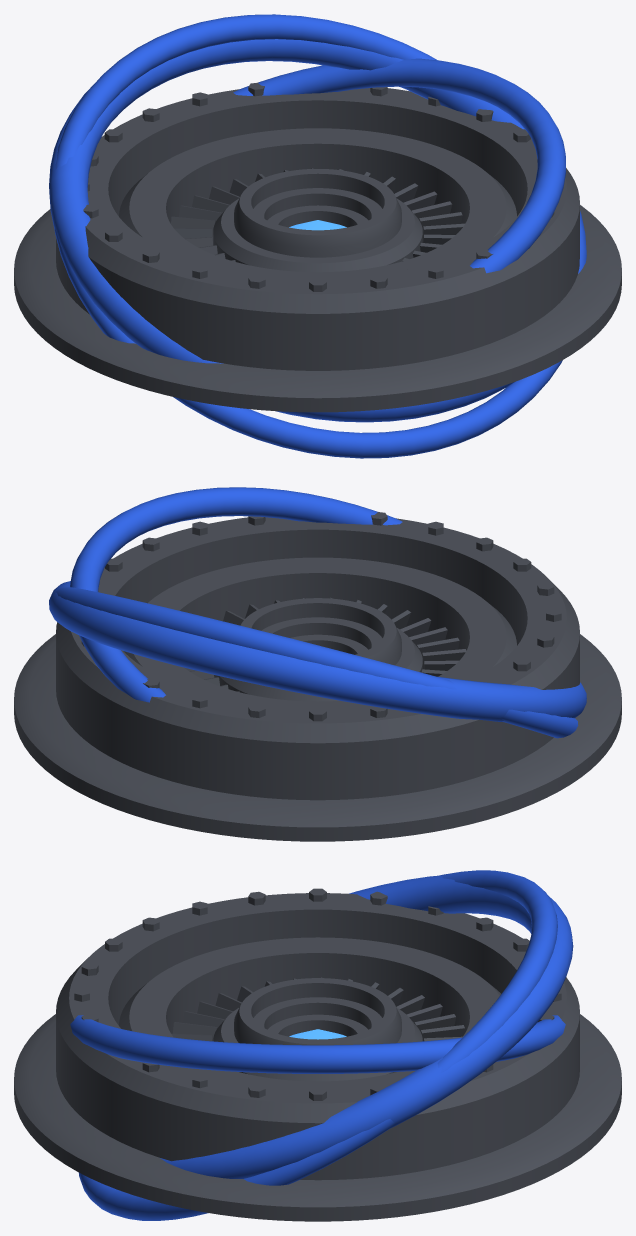
File: relay-core.glb
3 renders of one model, top to bottom at view 1: azimuth 30°, elevation 25°; view 2: azimuth 150°, elevation 25°; view 3: azimuth 270°, elevation 25°, orthographic.
Parts seen in each view (by area): view 1: ring.outer, ring.mid, ring.step, tube.blue.2, tube.blue.0, tube.blue.1, hub, ring.inner, vanes, bolts; view 2: ring.outer, ring.mid, ring.step, tube.blue.0, tube.blue.1, tube.blue.2, hub, bolts, vanes, ring.inner; view 3: ring.outer, ring.mid, ring.step, tube.blue.0, tube.blue.1, tube.blue.2, hub, vanes, bolts, ring.inner.
Boxes of the visible parts, x1=… form: ring.outer: x1=56, y1=88, x2=579, y2=370; ring.mid: x1=14, y1=205, x2=621, y2=412; ring.step: x1=119, y1=128, x2=516, y2=277; tube.blue.2: x1=54, y1=14, x2=562, y2=458; tube.blue.0: x1=49, y1=39, x2=586, y2=422; tube.blue.1: x1=233, y1=58, x2=565, y2=273; hub: x1=234, y1=169, x2=401, y2=257; ring.inner: x1=213, y1=198, x2=422, y2=272; vanes: x1=171, y1=168, x2=464, y2=261; bolts: x1=83, y1=82, x2=554, y2=291; ring.outer: x1=56, y1=517, x2=579, y2=800; ring.mid: x1=14, y1=634, x2=621, y2=841; ring.step: x1=123, y1=557, x2=516, y2=706; tube.blue.0: x1=49, y1=581, x2=586, y2=722; tube.blue.1: x1=70, y1=487, x2=402, y2=702; tube.blue.2: x1=55, y1=586, x2=578, y2=738; hub: x1=240, y1=598, x2=401, y2=665; bolts: x1=81, y1=512, x2=561, y2=721; vanes: x1=184, y1=597, x2=466, y2=691; ring.inner: x1=214, y1=628, x2=422, y2=701; ring.outer: x1=56, y1=893, x2=579, y2=1180; ring.mid: x1=14, y1=1014, x2=621, y2=1221; ring.step: x1=119, y1=937, x2=500, y2=1086; tube.blue.0: x1=160, y1=875, x2=573, y2=1178; tube.blue.1: x1=70, y1=1015, x2=565, y2=1073; tube.blue.2: x1=78, y1=870, x2=557, y2=1220; hub: x1=234, y1=978, x2=401, y2=1045; vanes: x1=171, y1=977, x2=464, y2=1041; bolts: x1=74, y1=888, x2=561, y2=1100; ring.inner: x1=213, y1=1007, x2=422, y2=1081.
Size of the model in its own units: 2.32 by 1.1 by 2.32.
